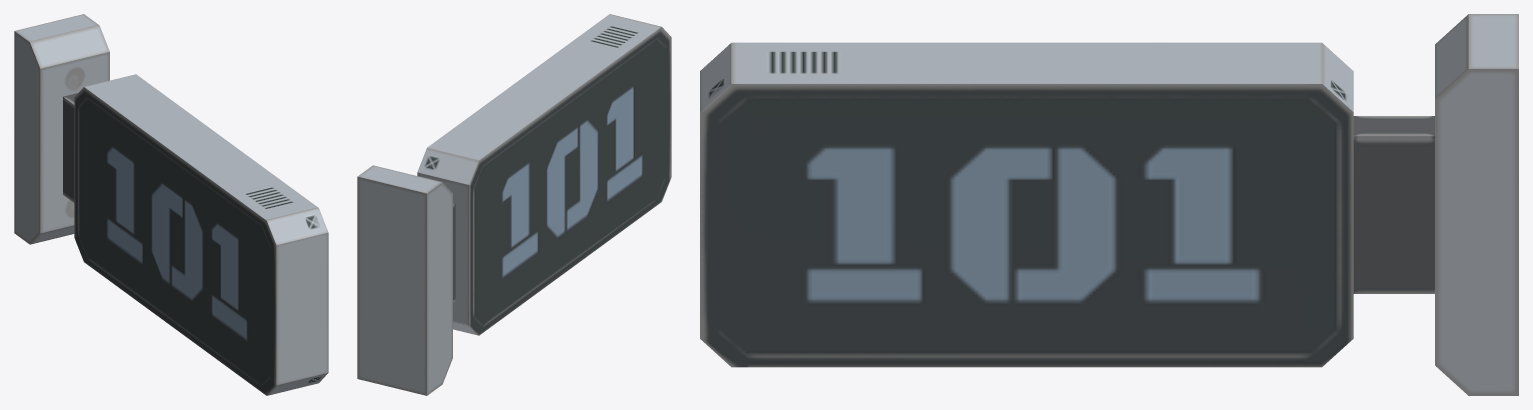
The model's file is Prop_RoomPanel_101.fbx.
3 renders of one model, left to right at view 1: azimuth 30°, elevation 25°; view 2: azimuth 150°, elevation 25°; view 3: azimuth 270°, elevation 25°, orthographic. The views are drawn at different scales.
Parts seen in each view (by area): view 1: Prop_RoomPanel_101; view 2: Prop_RoomPanel_101; view 3: Prop_RoomPanel_101.
Boxes of the visible parts, x1,y1,x2,y2 form: Prop_RoomPanel_101: (14,14,328,395); Prop_RoomPanel_101: (357,14,671,395); Prop_RoomPanel_101: (700,14,1518,395).
Size of the model in its own units: 8.3 by 23.04 by 52.27.
1 material, 1 textured.
